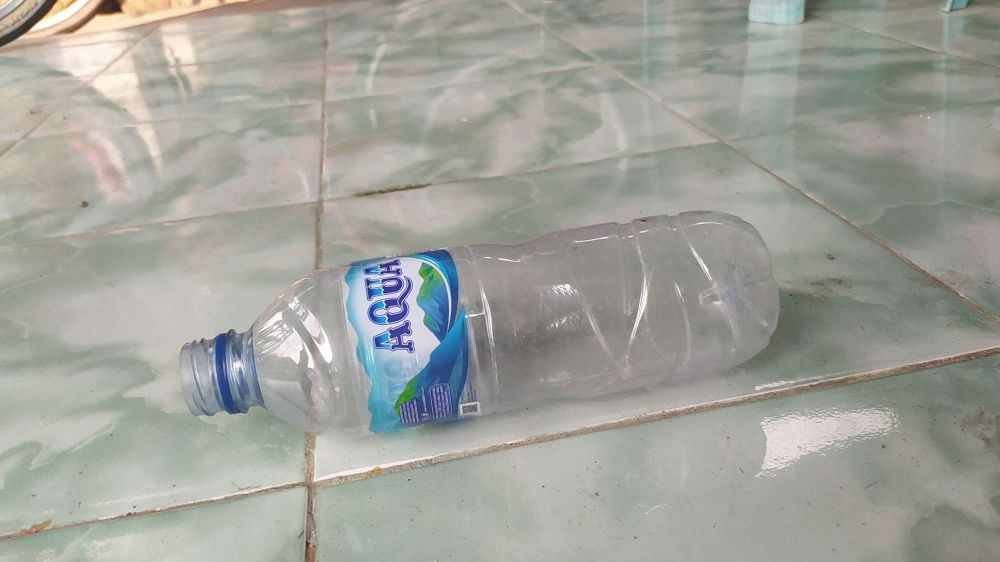botol: (161, 207, 825, 444)
